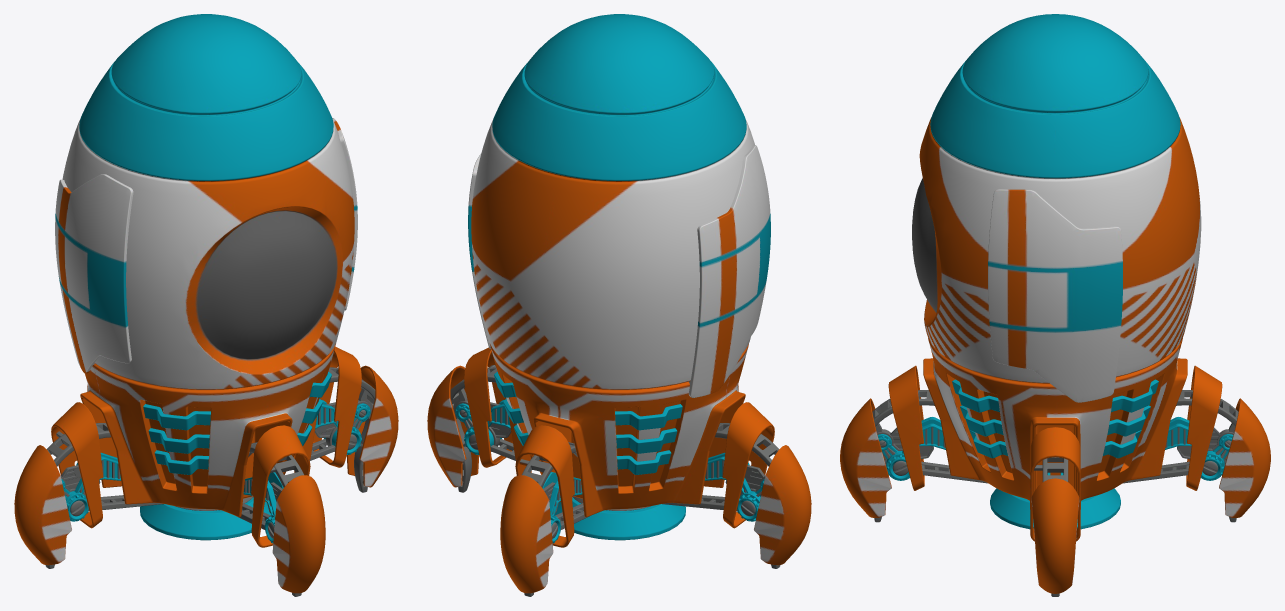
The model's file is Demo.gltf.
The picture shows the model from 3 angles, left to right: view 1: azimuth 30°, elevation 25°; view 2: azimuth 150°, elevation 25°; view 3: azimuth 270°, elevation 25°; orthographic projection.
Visible parts, largest first — view 1: Toy Spaceship; view 2: Toy Spaceship; view 3: Toy Spaceship.
Part boxes in pixels (<box>): Toy Spaceship: <box>14,14,398,596</box>; Toy Spaceship: <box>427,14,811,596</box>; Toy Spaceship: <box>840,14,1270,596</box>.
Size of the model in its own units: 0.7872 by 1 by 0.7872.
Materials: 1 (1 with a texture image).
